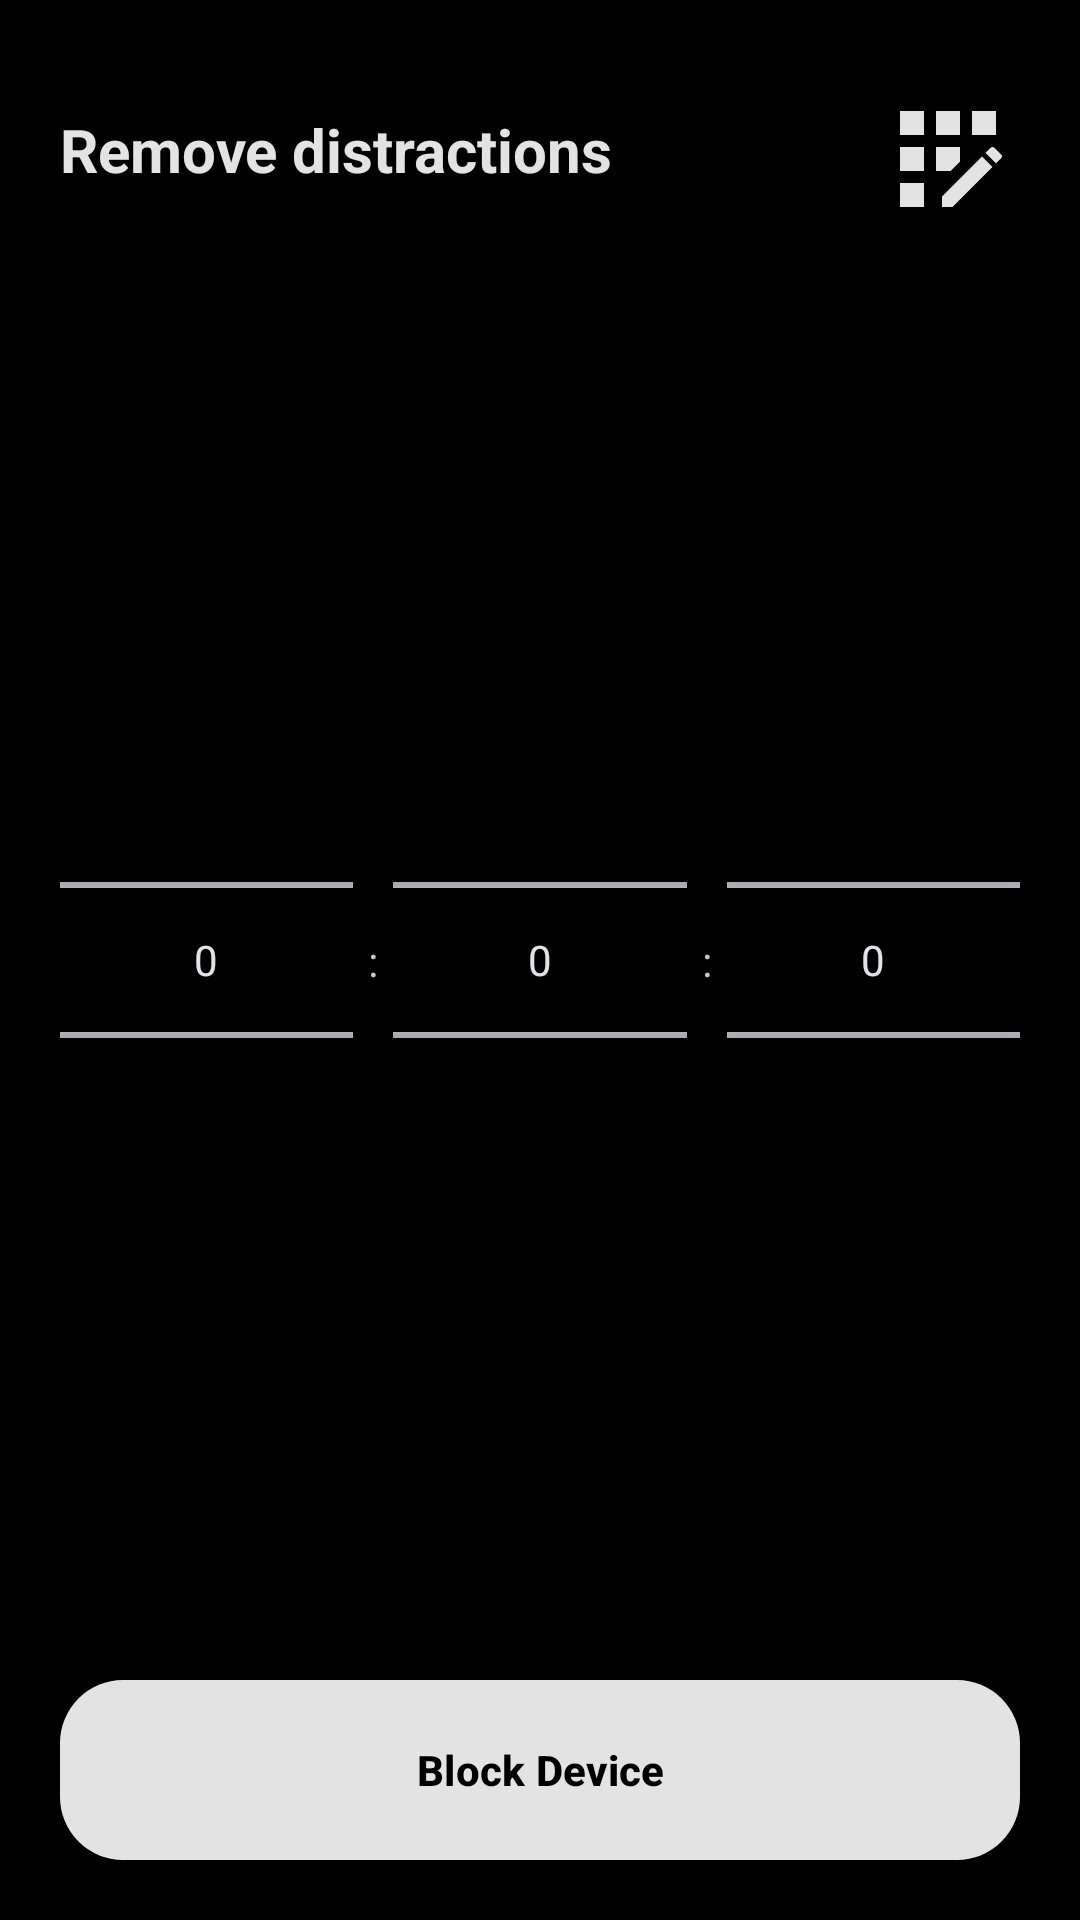

Screen size 1080w x 1920h. Icon name, then its box in pixels as (x1, y1, x2, y2):
Whitelist app list: (900, 111, 1002, 207)
